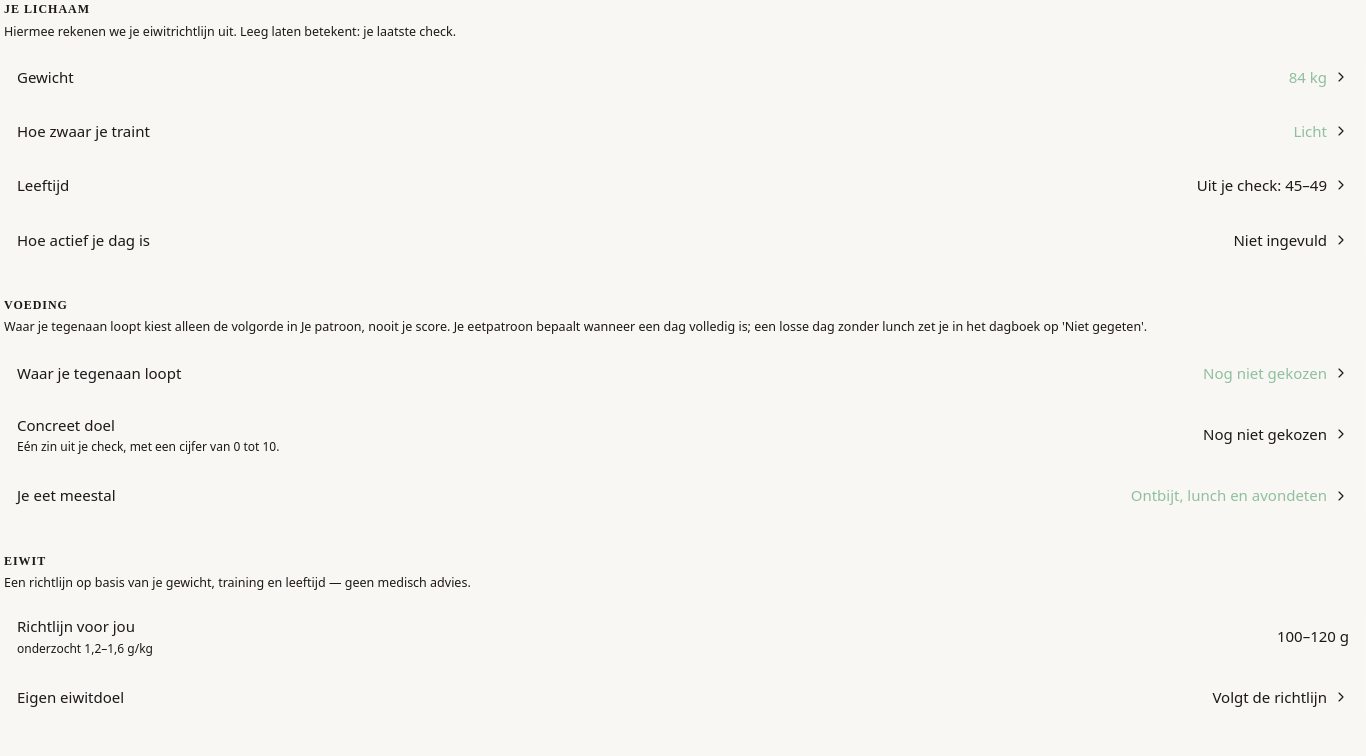
Scenario: DoelenLijst › weigert een gewicht buiten de grenzen van de formule
Click the button "Gewicht 84 kg" at (45, 77), box top-left (1, 51), bottom-right (1365, 105)
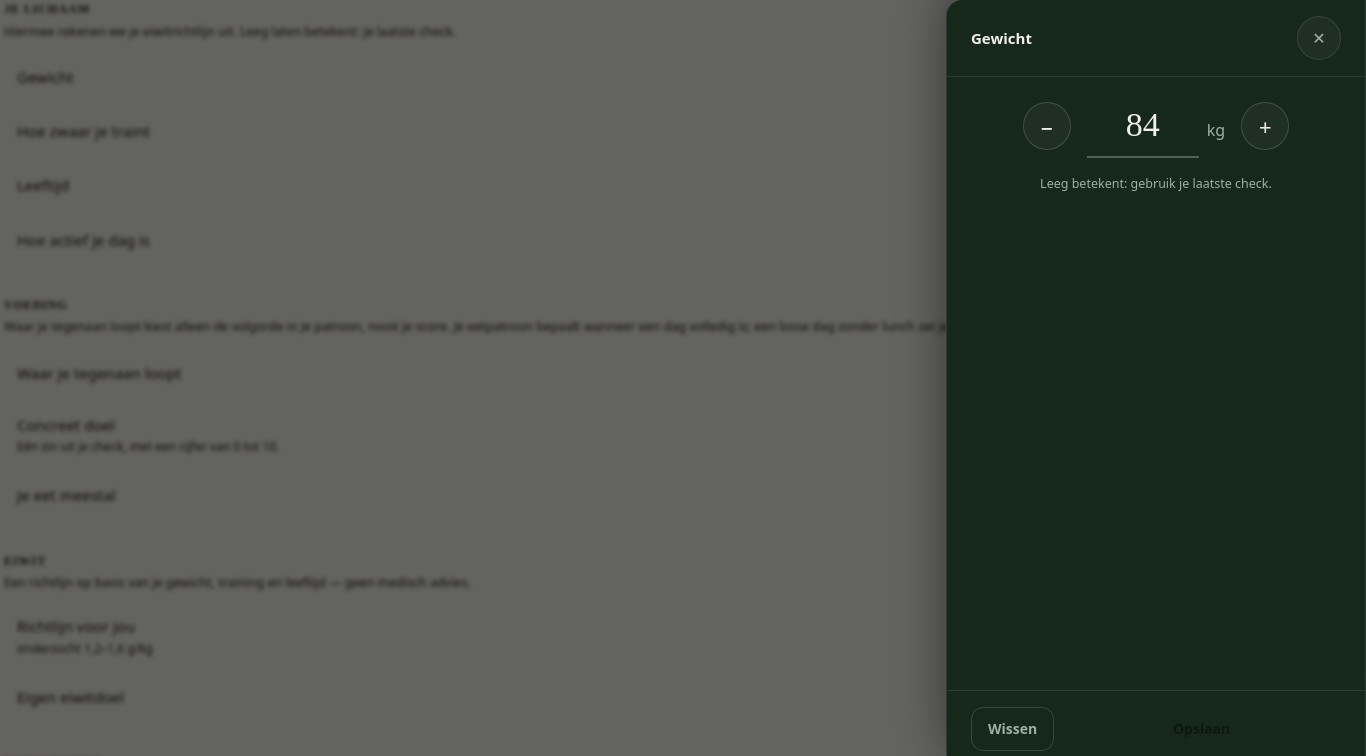
Replace the text in the field with "300" at (1143, 126), box top-left (1087, 93), bottom-right (1199, 158)
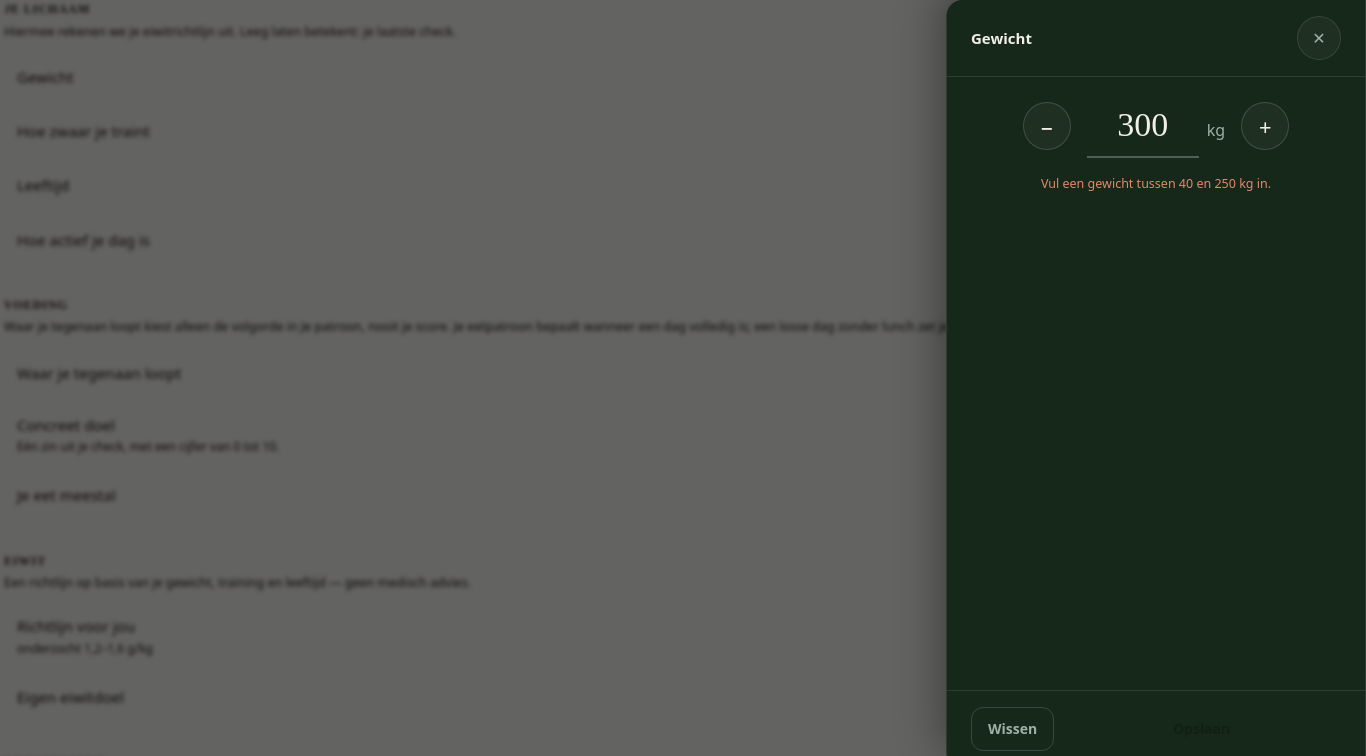
Expected: the text "Vul een gewicht tussen 40 en 250 kg in." is shown, top-left (1041, 175), bottom-right (1271, 192)
